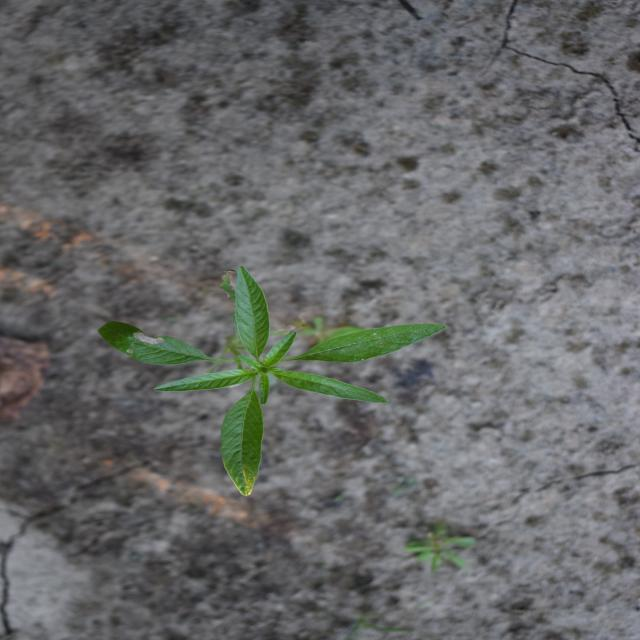Waterhemp: (95, 265, 451, 499)
